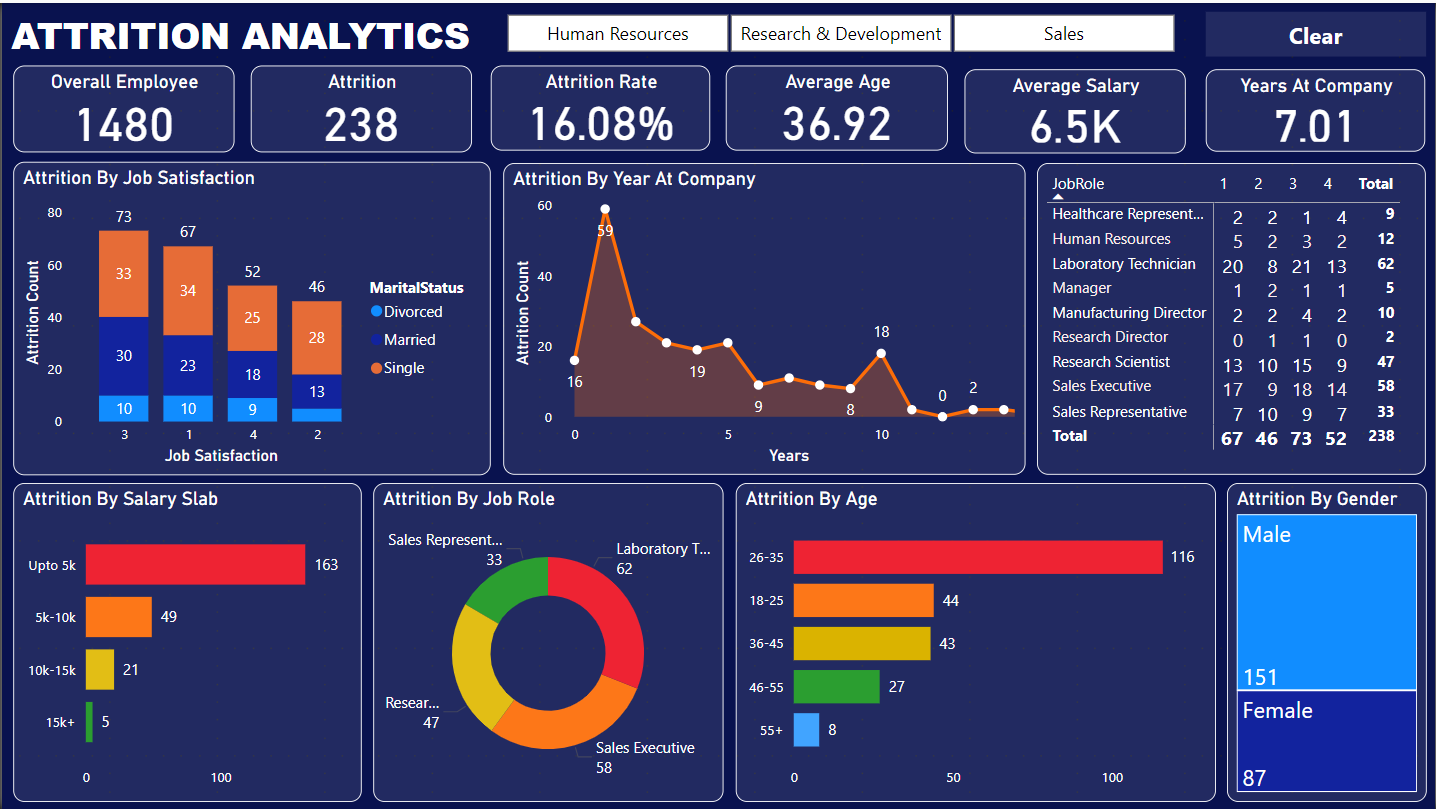

What the dashboard file says about the page in this screenshot:
{"tool":"powerbi","page":{"name":"Page 1","canvas":[1280,720],"ordinal":0},"visuals":[{"type":"textbox","box":[3.8,1.2,432.5,56.2],"z":0},{"type":"slicer","fields":{"Values":["HR_Analytics.Department"]},"box":[425.7,2.9,645.7,47.1],"z":1000},{"type":"card","title":"Overall Employee","fields":{"Values":["CountNonNull(HR_Analytics.EmpID)"]},"box":[10,56.2,197.5,77.5],"z":2000},{"type":"card","title":"Attrition","fields":{"Values":["Sum(HR_Analytics.Attrition_Count)"]},"box":[222.5,56.2,197.5,77.5],"z":3000},{"type":"card","title":"Attrition Rate","fields":{"Values":["HR_Analytics.Attrition_Rate"]},"box":[436.2,56.2,196.2,76.2],"z":4000},{"type":"card","title":"Average Age","fields":{"Values":["HR_Analytics.AvgAge"]},"box":[646.2,56.2,198.8,76.2],"z":5000},{"type":"card","title":"Average Salary","fields":{"Values":["Avg(HR_Analytics.MonthlyIncome)"]},"box":[860,58.8,197.5,75],"z":6000},{"type":"card","title":"Years At Company","fields":{"Values":["Avg(HR_Analytics.YearsAtCompany)"]},"box":[1075,58.8,196.2,73.8],"z":7000},{"type":"columnChart","title":"Attrition By Job Satisfaction","fields":{"Series":["HR_Analytics.MaritalStatus"],"Category":["HR_Analytics.JobSatisfaction"],"Y":["Sum(HR_Analytics.Attrition_Count)"]},"box":[10,141.2,426.2,280],"z":8000},{"type":"barChart","title":"Attrition By Age","fields":{"Category":["HR_Analytics.AgeGroup"],"Y":["Sum(HR_Analytics.Attrition_Count)"]},"box":[655,428.8,428.8,285],"z":9000},{"type":"pivotTable","fields":{"Rows":["HR_Analytics.JobRole"],"Columns":["HR_Analytics.JobSatisfaction"],"Values":["Sum(HR_Analytics.Attrition_Count)"]},"box":[923.8,142.5,347.5,278.8],"z":10000},{"type":"barChart","title":"Attrition By Salary Slab","fields":{"Category":["HR_Analytics.SalarySlab"],"Y":["Sum(HR_Analytics.Attrition_Count)"]},"box":[10,428.8,311.2,285],"z":11000},{"type":"lineChart","title":"Attrition By Year At Company","fields":{"Category":["HR_Analytics.YearsAtCompany"],"Y":["Sum(HR_Analytics.Attrition_Count)"]},"box":[447.5,142.5,466.2,278.8],"z":12000},{"type":"donutChart","title":"Attrition By Job Role","fields":{"Category":["HR_Analytics.JobRole"],"Y":["Sum(HR_Analytics.Attrition_Count)"]},"box":[331.2,428.8,312.5,285],"z":13000},{"type":"actionButton","box":[1075,7.8,196.5,40.2],"z":14000},{"type":"treemap","title":"Attrition By Gender","fields":{"Group":["HR_Analytics.Gender"],"Values":["Sum(HR_Analytics.Attrition_Count)"]},"box":[1093.8,428.8,178.8,285],"z":15000}]}

Visuals, with their boxes in screenshot pixels (x1, y1, x2, y2), scaled from the page's 1280x720 canvas onto the 1436x809 screenshot:
textbox: 4:1:489:64
slicer - HR_Analytics.Department: 478:3:1202:56
"Overall Employee" card: 11:63:233:150
"Attrition" card: 250:63:471:150
"Attrition Rate" card: 489:63:709:149
"Average Age" card: 725:63:948:149
"Average Salary" card: 965:66:1186:150
"Years At Company" card: 1206:66:1426:149
"Attrition By Job Satisfaction" columnChart: 11:159:489:473
"Attrition By Age" barChart: 735:482:1216:802
pivotTable - HR_Analytics.JobRole x HR_Analytics.JobSatisfaction: 1036:160:1426:473
"Attrition By Salary Slab" barChart: 11:482:360:802
"Attrition By Year At Company" lineChart: 502:160:1025:473
"Attrition By Job Role" donutChart: 372:482:722:802
actionButton: 1206:9:1426:54
"Attrition By Gender" treemap: 1227:482:1428:802
